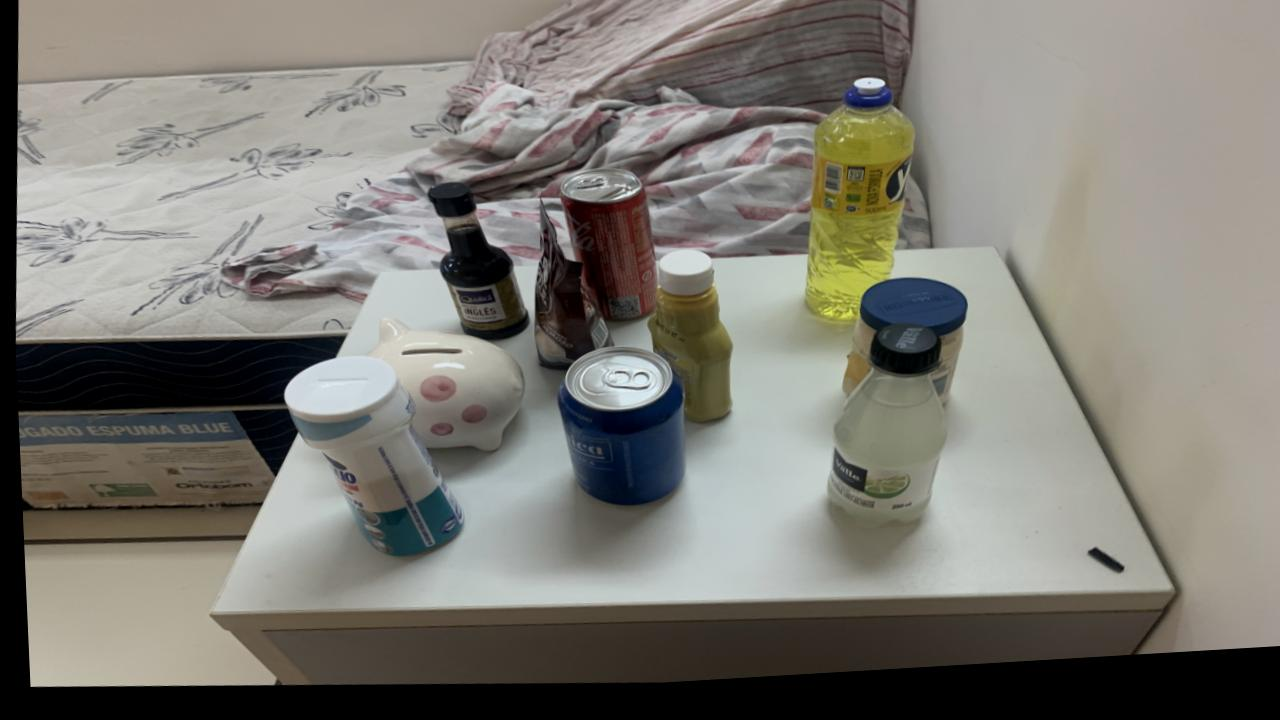Cleaner-Cleanup_Items: (281, 360, 459, 560)
Coffee-Pantry_Items: (530, 208, 610, 377)
Coke-Drinks: (557, 176, 654, 328)
Detergent-Cleanup_Items: (801, 87, 913, 331)
English_Sauce-Pantry_Items: (425, 188, 525, 346)
Mayonnaise-Pantry_Items: (839, 288, 963, 414)
Mustard-Pantry_Items: (645, 257, 727, 430)
Pig_Safe-Miscellaneous: (364, 323, 521, 457)
Soda-Drinks: (822, 333, 941, 538)
Tonic-Drinks: (554, 354, 680, 512)
